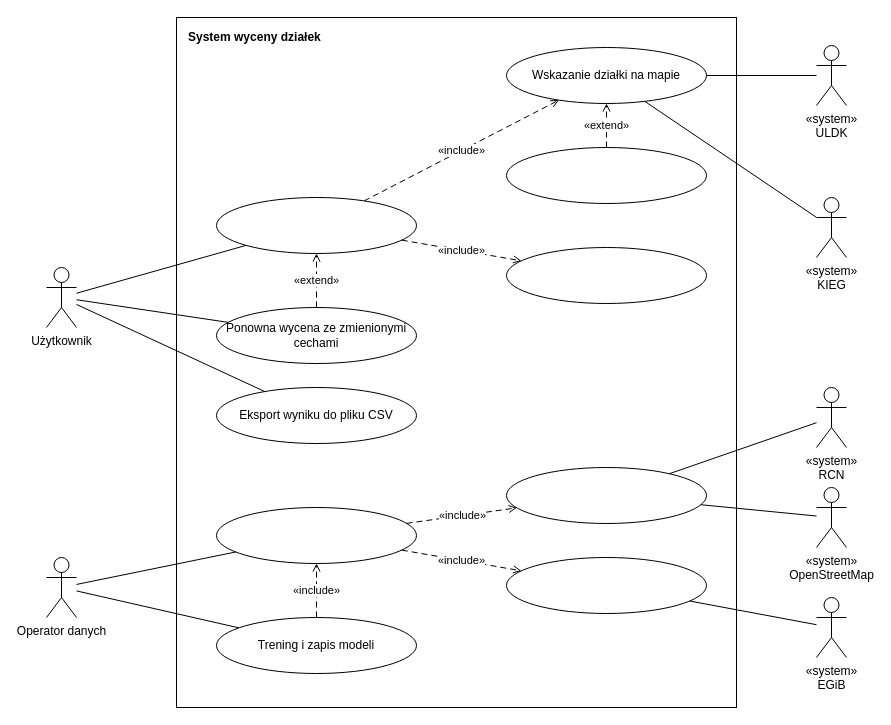
Some shapes in this 891 by 725 pixel diagram are drawn without their labels. The shapes that lost their labels are listed below. From the top down, each one's box as (x1, y1, x2, y2) in pixels, then its label:
(506, 146, 706, 204): Narysowanie granicy działki
(216, 196, 416, 254): Wycena działki
(506, 246, 706, 304): Uzupełnienie formularza
(506, 466, 706, 524): Pobranie danych źródłowych
(216, 506, 416, 564): Przygotowanie danych
(506, 556, 706, 614): Uzupełnienie granic działek
